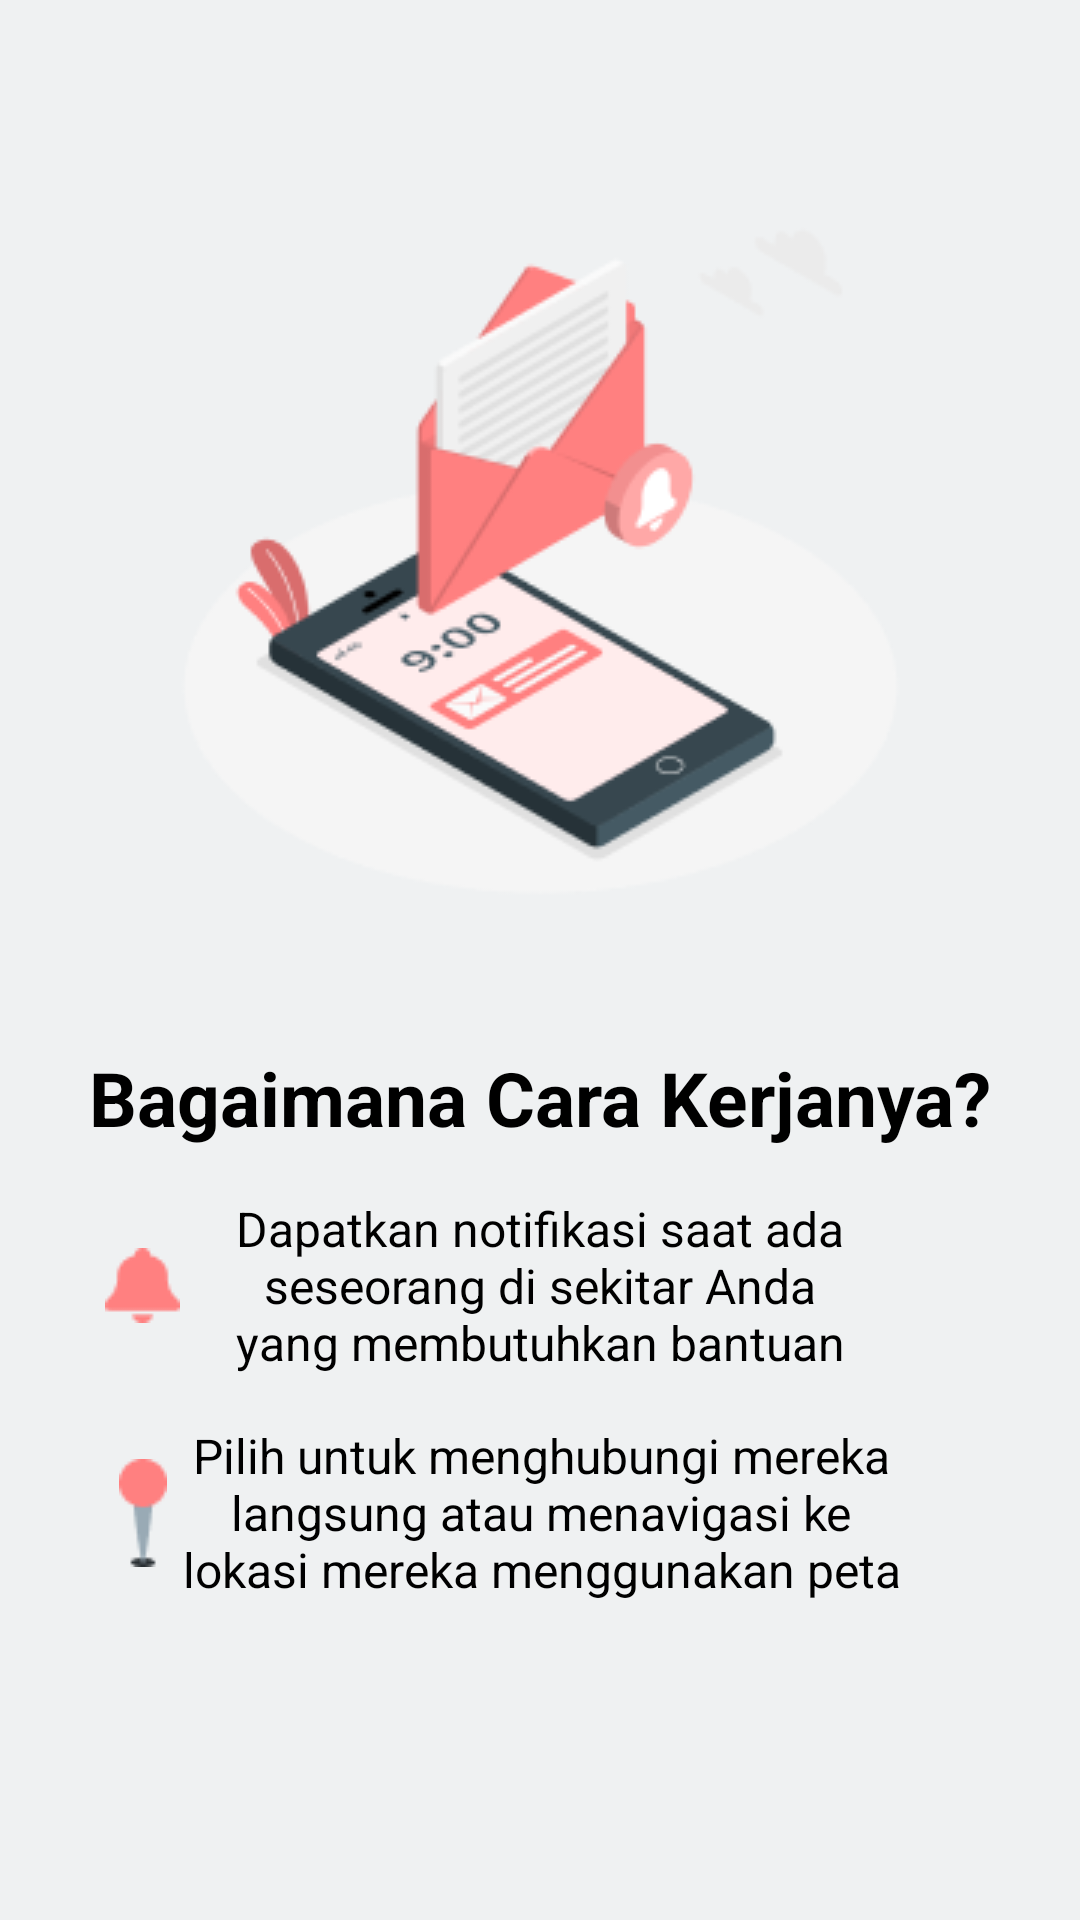

Icon bounding boxes for this 1080 x 1920 phone screenshot, format (x1, y1, x2, y2):
notification: (105, 1248, 180, 1323)
